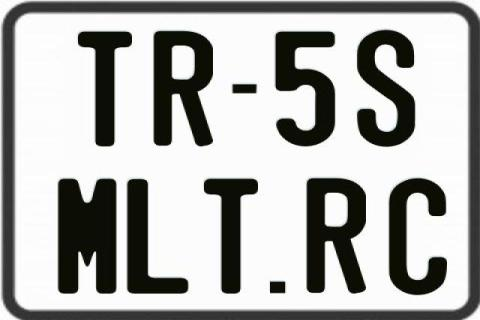0: (275, 29, 337, 145)
C: (387, 176, 445, 294)
L: (125, 178, 187, 296)
M: (56, 178, 118, 294)
R: (306, 176, 368, 291), (153, 29, 212, 147)
S: (354, 30, 415, 148)
T: (201, 178, 260, 294), (76, 31, 132, 148)
